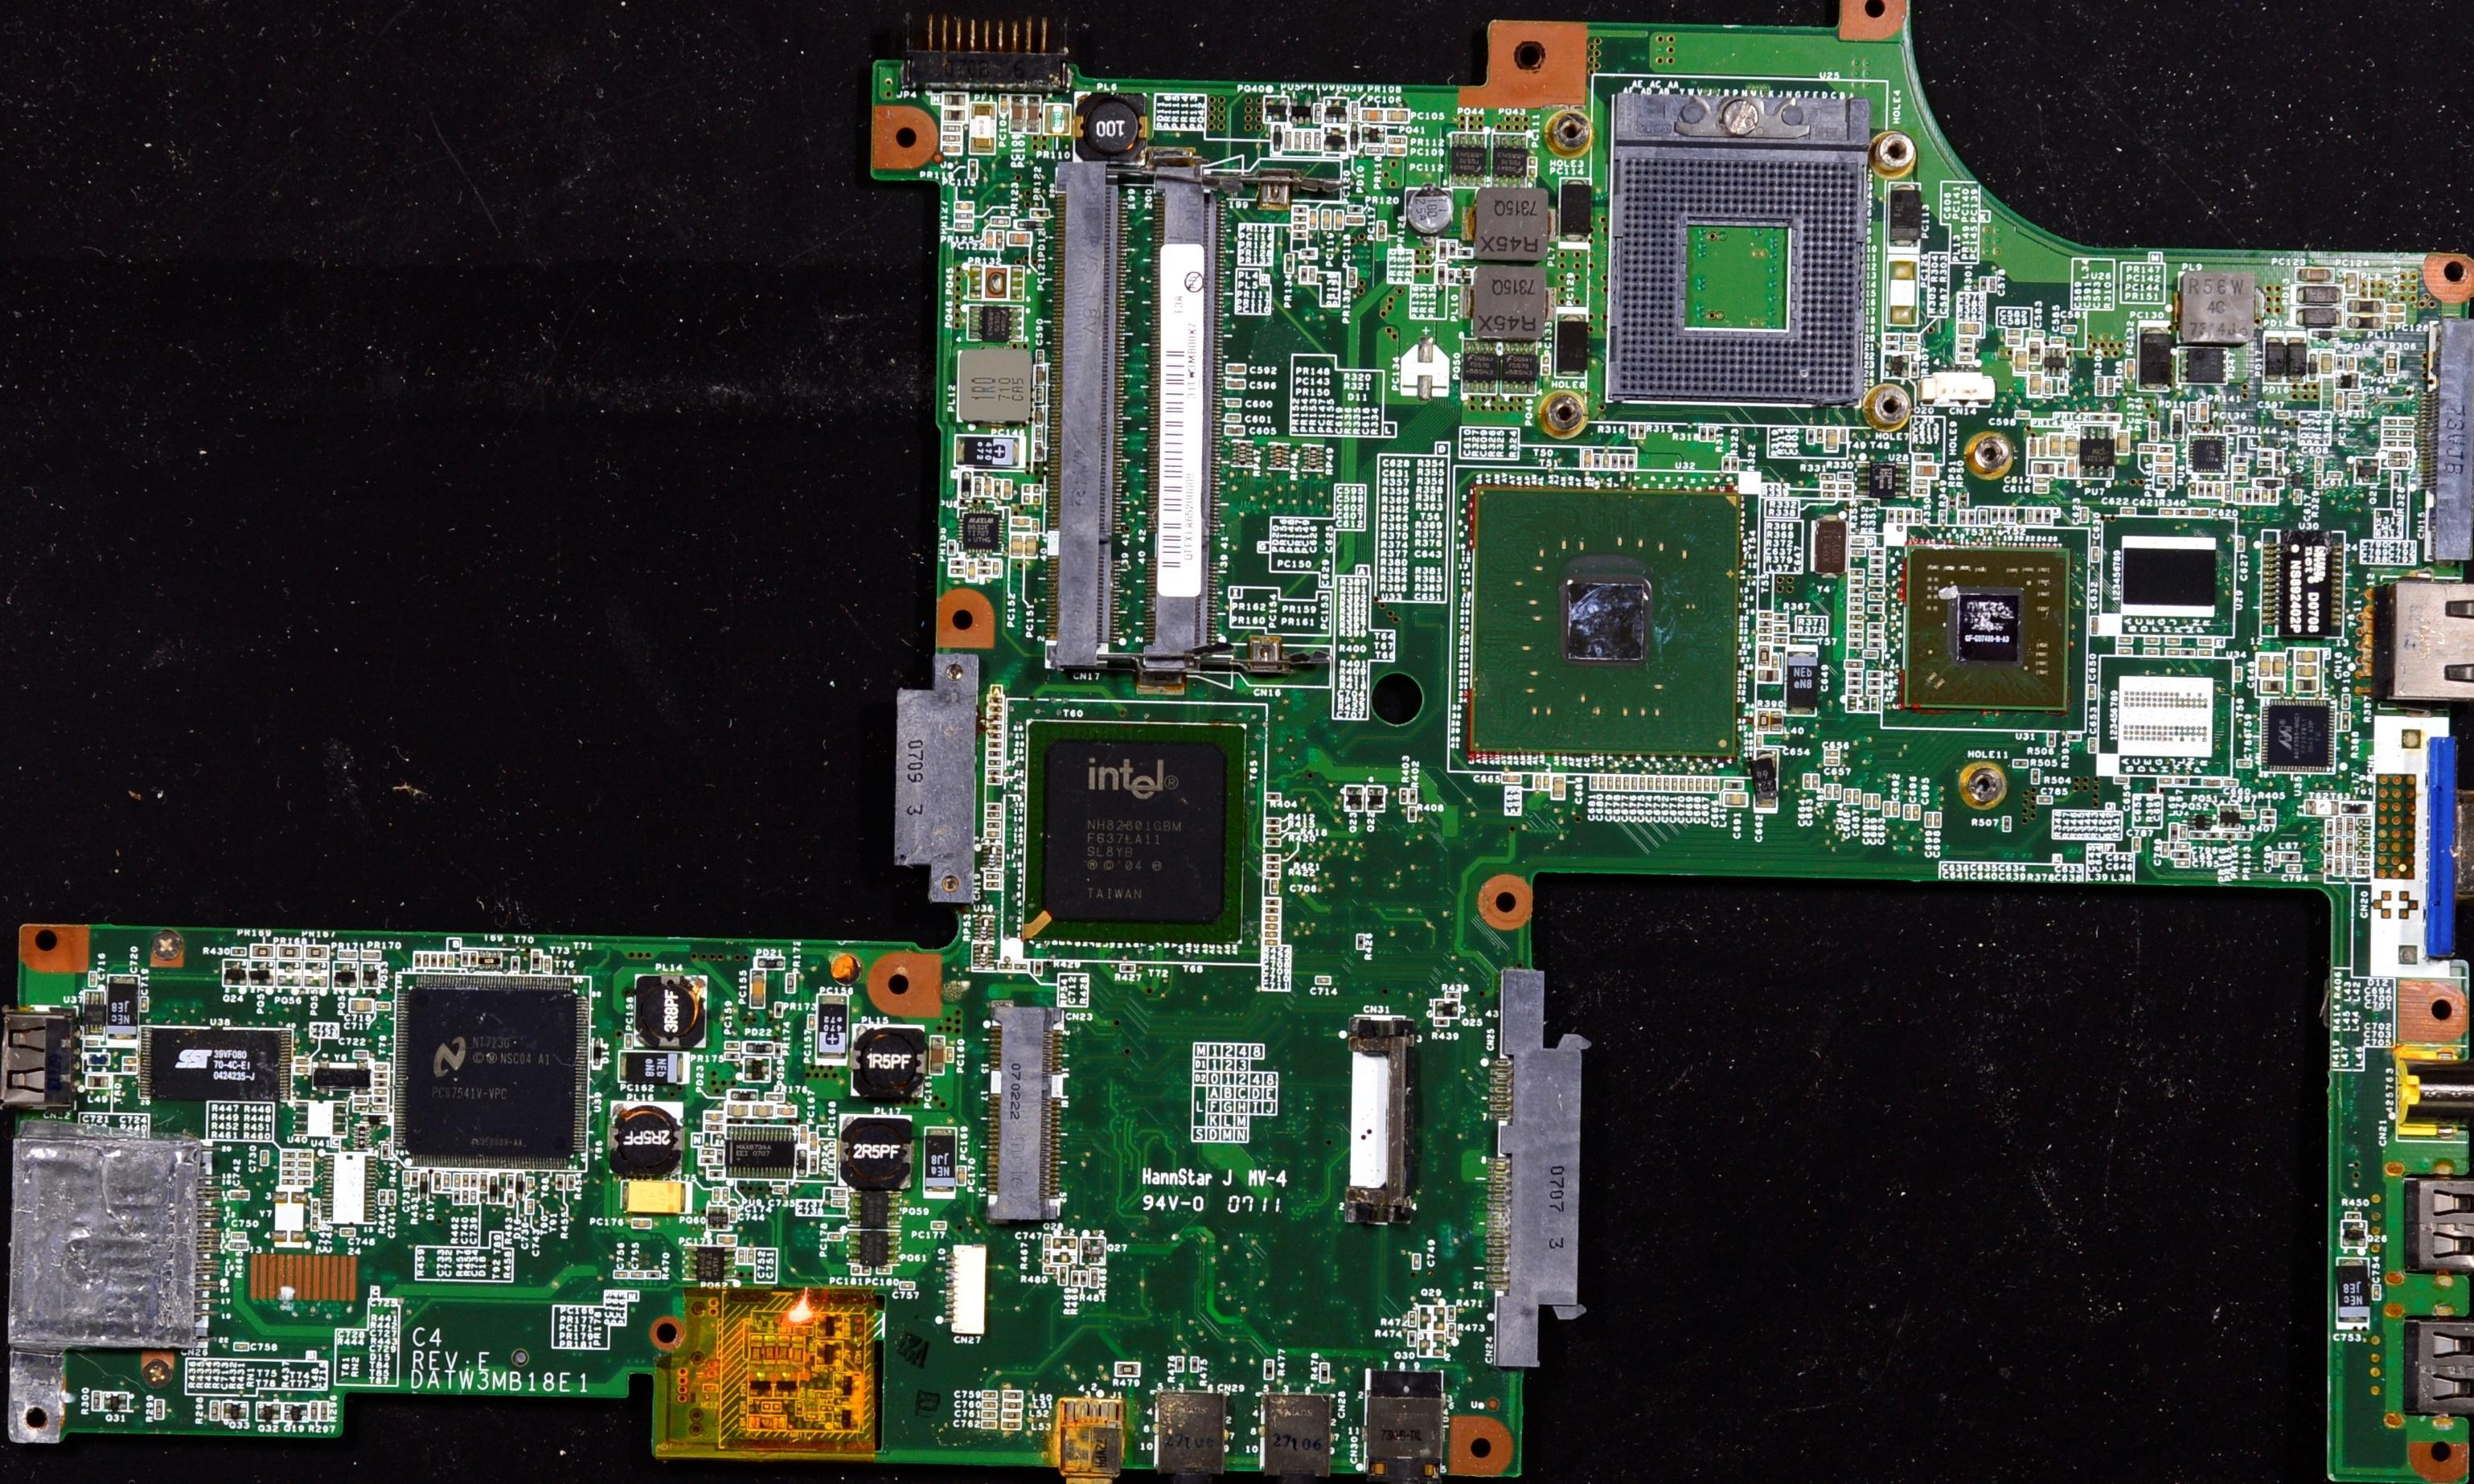Capacitor: (348, 998, 378, 1018), (1385, 108, 1412, 125), (726, 1101, 751, 1118), (1009, 233, 1036, 246), (940, 143, 965, 155), (2322, 352, 2334, 376), (1225, 366, 1249, 378), (753, 1104, 774, 1118), (1226, 426, 1249, 438), (1827, 429, 1840, 452), (2387, 352, 2398, 378), (1013, 534, 1023, 560), (1027, 534, 1037, 558), (2152, 463, 2181, 472), (1336, 210, 1347, 233), (2126, 357, 2136, 380), (1362, 110, 1382, 122), (2386, 304, 2405, 316), (2016, 348, 2025, 375), (230, 1191, 251, 1201), (719, 1233, 740, 1244), (1960, 323, 1981, 334), (2030, 376, 2041, 398), (1011, 518, 1032, 528), (1322, 208, 1331, 233), (984, 230, 993, 254), (2048, 436, 2060, 454), (633, 1217, 652, 1228), (1726, 795, 1746, 806), (1000, 94, 1009, 117), (1226, 382, 1249, 390), (2154, 456, 2177, 465), (1225, 413, 1242, 424), (1555, 777, 1564, 799), (624, 1032, 633, 1051), (2191, 509, 2211, 518), (2260, 657, 2269, 677), (808, 1016, 816, 1033), (956, 203, 974, 212), (1348, 216, 1366, 224), (230, 1244, 251, 1251), (1226, 399, 1242, 408), (2315, 458, 2324, 473), (983, 481, 991, 496), (1825, 749, 1841, 758), (1504, 776, 1520, 784), (2200, 403, 2207, 422), (2066, 438, 2073, 458), (705, 1113, 723, 1120), (482, 1175, 489, 1193), (723, 1189, 730, 1207), (339, 1230, 357, 1237), (1044, 1237, 1053, 1251), (2029, 438, 2036, 456), (968, 562, 975, 579), (2092, 617, 2099, 634), (1315, 977, 1331, 984), (1414, 1254, 1421, 1270), (983, 1401, 998, 1408), (1311, 210, 1317, 231), (1958, 337, 1974, 345), (1688, 777, 1695, 793), (1006, 481, 1011, 500), (1905, 806, 1912, 820), (1935, 814, 1942, 829), (2273, 853, 2280, 867), (2288, 866, 2303, 873), (447, 954, 454, 968), (231, 1233, 246, 1240), (2373, 1286, 2380, 1300), (2350, 394, 2364, 401), (2276, 412, 2290, 419), (2122, 509, 2136, 516), (2235, 668, 2243, 682), (1757, 735, 1764, 749), (2225, 779, 2239, 786), (1599, 777, 1606, 791), (1608, 777, 1615, 791), (1696, 779, 1704, 793), (313, 1200, 318, 1217), (983, 1412, 1000, 1417), (984, 1420, 995, 1429), (1893, 804, 1900, 816), (1914, 807, 1921, 820), (2243, 813, 2255, 820), (2032, 332, 2045, 339), (2009, 339, 2022, 346), (1841, 429, 1848, 442), (2036, 477, 2048, 484), (2296, 491, 2303, 504), (2082, 509, 2089, 521), (2091, 687, 2098, 700), (2161, 777, 2174, 784), (1804, 776, 1811, 788), (1536, 777, 1543, 790), (1592, 777, 1599, 790), (1640, 777, 1647, 790), (1672, 779, 1679, 791), (2039, 797, 2052, 804), (714, 1189, 719, 1205), (2069, 459, 2075, 475), (1712, 779, 1718, 795), (1886, 804, 1891, 818), (1272, 880, 1278, 894), (1267, 931, 1278, 938), (1267, 940, 1278, 947), (949, 1048, 954, 1062), (456, 1177, 461, 1191), (313, 1215, 318, 1230), (1992, 279, 1997, 293), (1960, 357, 1974, 362), (2329, 473, 2343, 479), (2091, 740, 2098, 751), (1617, 777, 1622, 791), (1705, 779, 1711, 793), (1866, 795, 1871, 809), (406, 1173, 410, 1193), (1928, 814, 1933, 827), (2177, 844, 2189, 850), (2163, 844, 2168, 857), (1265, 917, 1278, 922), (2064, 327, 2076, 332), (2052, 339, 2064, 345), (2036, 486, 2048, 491), (2161, 511, 2174, 516), (1827, 760, 1840, 765), (1813, 776, 1818, 788), (1656, 777, 1661, 790), (1681, 779, 1686, 791), (1665, 779, 1670, 791), (1827, 786, 1833, 799), (1834, 786, 1840, 799), (1847, 791, 1852, 804), (1855, 791, 1861, 804), (1875, 797, 1880, 809), (2135, 841, 2140, 852), (2177, 862, 2188, 867), (1267, 924, 1278, 929), (2009, 330, 2020, 336), (1633, 779, 1638, 790), (1649, 779, 1654, 790), (2386, 316, 2416, 318), (465, 1175, 468, 1189), (901, 1284, 915, 1288), (984, 1394, 998, 1397), (1544, 777, 1548, 790), (1626, 777, 1629, 790)
Connector: (1044, 157, 1117, 673), (1154, 168, 1218, 668), (984, 1003, 1051, 1224), (1350, 1012, 1408, 1215)
IC: (1025, 721, 1242, 945), (141, 1021, 300, 1108), (2251, 516, 2352, 648), (857, 1019, 938, 1113), (1954, 583, 2025, 664), (2260, 696, 2336, 770), (728, 1120, 797, 1180), (323, 1152, 378, 1224), (675, 1246, 751, 1279), (965, 307, 1021, 346), (1451, 131, 1488, 189), (1465, 339, 1502, 396), (1502, 339, 1536, 399), (960, 516, 1006, 555), (1493, 134, 1527, 187), (104, 982, 136, 1037), (2188, 438, 2227, 473), (2082, 424, 2108, 475), (857, 1193, 898, 1224), (859, 1226, 889, 1268), (391, 1189, 396, 1207)
Resistor: (942, 108, 967, 124), (1115, 1364, 1140, 1380), (944, 94, 968, 106), (956, 210, 975, 223), (991, 217, 1013, 228), (956, 223, 975, 233), (375, 1072, 392, 1083), (942, 134, 963, 143), (997, 231, 1006, 251), (1320, 1366, 1331, 1382), (544, 958, 553, 975), (1447, 1306, 1456, 1323), (532, 950, 539, 972), (942, 125, 963, 133), (975, 477, 983, 498), (949, 569, 970, 576), (1265, 839, 1281, 848), (1265, 855, 1281, 864), (1191, 1359, 1200, 1374), (281, 1152, 300, 1159), (435, 1173, 442, 1193), (1092, 1268, 1099, 1288), (1267, 1360, 1274, 1380), (1410, 806, 1417, 823), (438, 952, 445, 970), (353, 1104, 368, 1113), (283, 1168, 297, 1177), (281, 1177, 299, 1184), (1060, 1268, 1067, 1286), (1410, 1309, 1417, 1327), (1447, 1325, 1456, 1339), (1410, 1332, 1417, 1350), (2015, 760, 2029, 769), (1265, 795, 1283, 802), (431, 952, 438, 968), (512, 956, 520, 972), (373, 1062, 389, 1069), (373, 1088, 389, 1095), (373, 1104, 389, 1111), (445, 1173, 452, 1189), (1044, 1267, 1060, 1274), (1175, 1359, 1182, 1374), (2349, 405, 2364, 412), (1822, 482, 1838, 489), (949, 560, 965, 567), (470, 952, 479, 965), (1822, 473, 1834, 482), (1824, 491, 1836, 500), (1264, 873, 1283, 878), (300, 1152, 320, 1157), (979, 569, 998, 574), (2262, 811, 2276, 818), (1267, 827, 1281, 834), (456, 1191, 463, 1205), (1044, 1251, 1051, 1265), (1081, 1274, 1089, 1288), (1960, 346, 1974, 353), (1817, 429, 1824, 443), (1723, 458, 1730, 472), (1840, 473, 1854, 481), (1774, 625, 1788, 632), (1760, 627, 1774, 634), (1400, 790, 1407, 804), (1410, 790, 1417, 804), (472, 1171, 477, 1189), (949, 541, 954, 558), (2004, 820, 2011, 832), (1267, 899, 1279, 906), (1267, 908, 1279, 915), (375, 1095, 387, 1102), (1638, 426, 1645, 438), (1631, 426, 1638, 438), (1709, 429, 1716, 442), (1808, 431, 1815, 443), (1732, 459, 1739, 472), (1840, 484, 1852, 491), (1760, 613, 1772, 620), (1776, 617, 1788, 624), (1265, 864, 1281, 869), (415, 952, 421, 968), (463, 952, 468, 968), (2034, 770, 2039, 786), (297, 1171, 320, 1175), (2262, 818, 2276, 823), (424, 952, 429, 966), (375, 1079, 389, 1085), (1074, 1272, 1080, 1286), (1309, 269, 1315, 283), (1700, 428, 1705, 442), (2177, 511, 2188, 518), (2066, 735, 2080, 740), (1981, 279, 1986, 292), (1760, 622, 1772, 627), (1760, 636, 1772, 641), (355, 1097, 373, 1101), (1269, 820, 1279, 825), (299, 1164, 313, 1168), (283, 1161, 302, 1162), (302, 1161, 316, 1162), (302, 1180, 316, 1182)
iC: (396, 984, 588, 1168), (382, 1189, 387, 1205)
